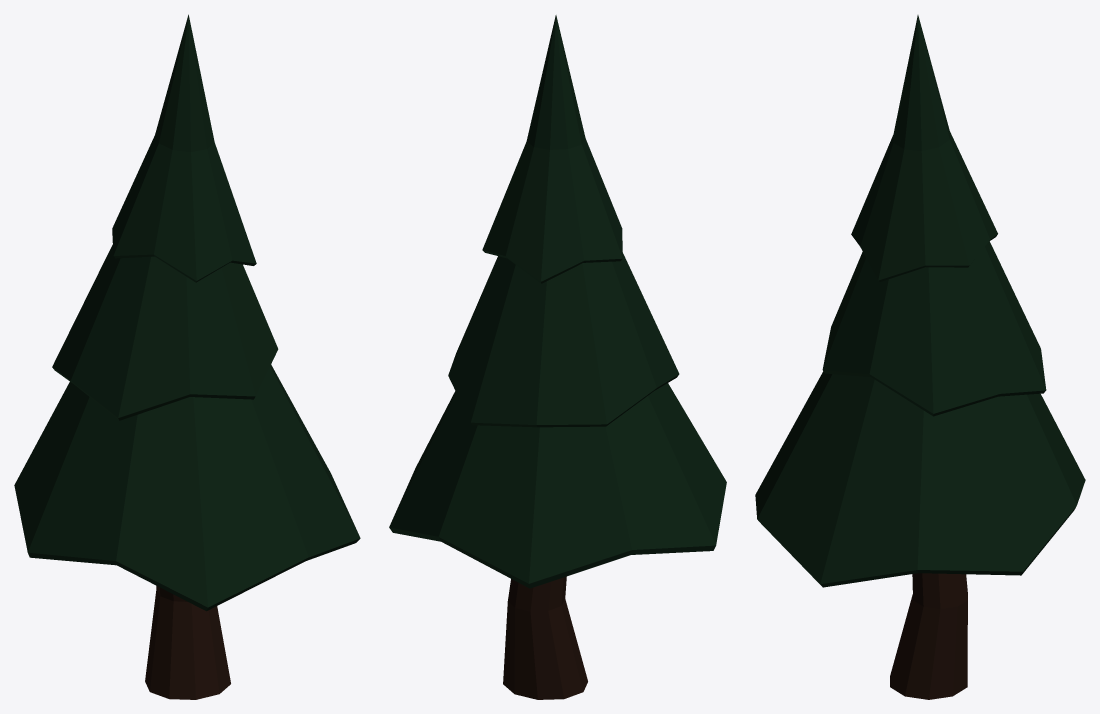
The model's file is PineTree01__FBX.fbx.
The picture shows the model from 3 angles, left to right: view 1: azimuth 30°, elevation 25°; view 2: azimuth 150°, elevation 25°; view 3: azimuth 270°, elevation 25°; orthographic projection.
Parts seen in each view (by area): view 1: PineTree_01; view 2: PineTree_01; view 3: PineTree_01.
Boxes of the visible parts, box(x1,y1,x2,y2) form: PineTree_01: box(14, 14, 360, 699); PineTree_01: box(389, 15, 726, 699); PineTree_01: box(755, 15, 1085, 699).
Bounding box in the file's own units: 262 × 556 × 250.
